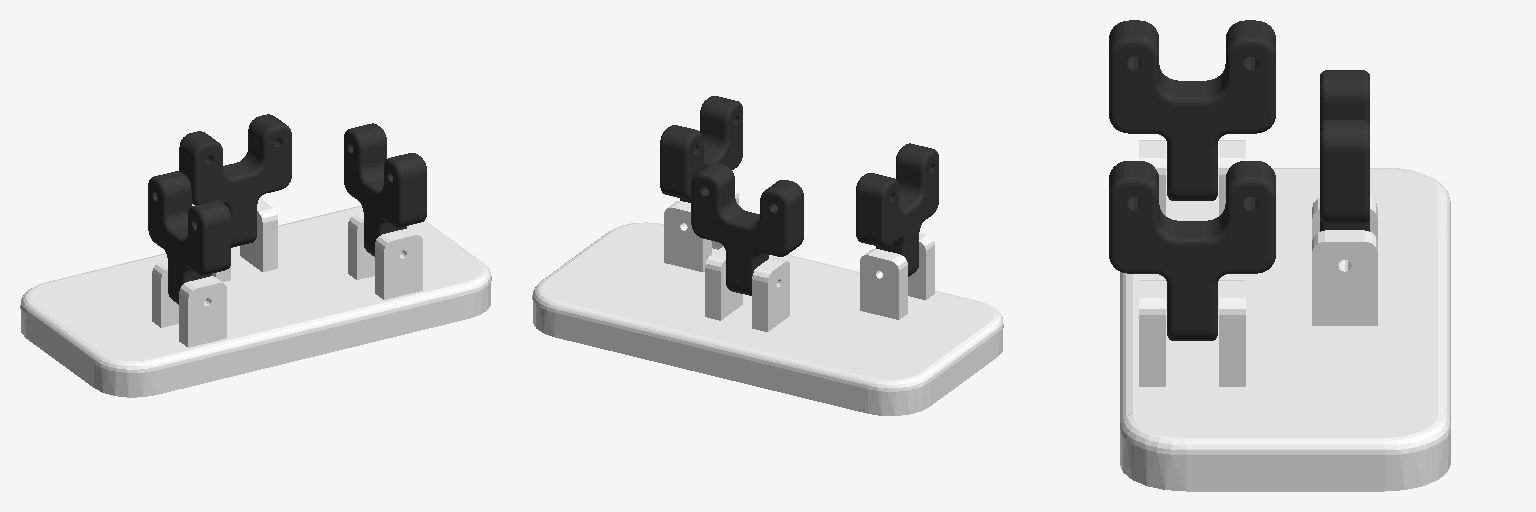
robot.urdf — bluefeet-urdf:
<?xml version="1.0" encoding="utf-8"?>
<!-- This URDF was automatically created by SolidWorks to URDF Exporter! Originally created by [author] ([email redacted]) 
     Commit Version: 1.6.0-1-g15f4949  Build Version: 1.6.7594.29634
     For more information, please see http://wiki.ros.org/sw_urdf_exporter -->
<robot
  name="bluefeet-urdf">
  <mujoco>
        <compiler 
        meshdir="../meshes/" 
        balanceinertia="true" 
        discardvisual="false" />
  </mujoco>
  <link
    name="foot">
    <inertial>
      <origin
        xyz="2.94540571336509E-15 -0.000485428158718312 0.00481121221112329"
        rpy="0 0 0" />
      <mass
        value="0.0431626228283364" />
      <inertia
        ixx="9.2501772724804E-06"
        ixy="-7.13979087059034E-21"
        ixz="-9.94928950890282E-19"
        iyy="3.41465292323659E-05"
        iyz="2.10273541230202E-07"
        izz="4.21467983924722E-05" />
    </inertial>
    <visual>
      <origin
        xyz="0 0 0"
        rpy="0 0 0" />
      <geometry>
        <mesh
          filename="package://bluefeet-urdf/meshes/foot.STL" />
      </geometry>
      <material
        name="">
        <color
          rgba="1 1 1 1" />
      </material>
    </visual>
    <collision>
      <origin
        xyz="0 0 0"
        rpy="0 0 0" />
      <geometry>
        <mesh
          filename="package://bluefeet-urdf/meshes/foot.STL" />
      </geometry>
    </collision>
  </link>
  <link
    name="fl1">
    <inertial>
      <origin
        xyz="0.011917746161099 1.04083408558608E-17 -3.46944695195361E-18"
        rpy="0 0 0" />
      <mass
        value="0.00283590714079141" />
      <inertia
        ixx="1.58449114328455E-07"
        ixy="-5.50699764411937E-24"
        ixz="-3.330273686942E-23"
        iyy="2.69919583243165E-07"
        iyz="5.6221076426108E-24"
        izz="1.38027104044294E-07" />
    </inertial>
    <visual>
      <origin
        xyz="0 0 0"
        rpy="0 0 0" />
      <geometry>
        <mesh
          filename="package://bluefeet-urdf/meshes/fl1.STL" />
      </geometry>
      <material
        name="">
        <color
          rgba="0.250980392156863 0.250980392156863 0.250980392156863 1" />
      </material>
    </visual>
    <collision>
      <origin
        xyz="0 0 0"
        rpy="0 0 0" />
      <geometry>
        <mesh
          filename="package://bluefeet-urdf/meshes/fl1.STL" />
      </geometry>
    </collision>
  </link>
  <joint
    name="fj1"
    type="revolute">
    <origin
      xyz="0.025 -0.014 0.018"
      rpy="1.5708 -1.5708 0" />
    <parent
      link="foot" />
    <child
      link="fl1" />
    <axis
      xyz="0 0 -1" />
    <limit
      lower="0"
      upper="0"
      effort="0"
      velocity="0" />
  </joint>
  <link
    name="fl2">
    <inertial>
      <origin
        xyz="0.011917746161099 1.38777878078145E-17 9.10725272540198E-18"
        rpy="0 0 0" />
      <mass
        value="0.00283590714079142" />
      <inertia
        ixx="1.58449114328455E-07"
        ixy="1.76340876041553E-25"
        ixz="1.50618263651043E-23"
        iyy="2.69919583243166E-07"
        iyz="-1.73283008985669E-23"
        izz="1.38027104044294E-07" />
    </inertial>
    <visual>
      <origin
        xyz="0 0 0"
        rpy="0 0 0" />
      <geometry>
        <mesh
          filename="package://bluefeet-urdf/meshes/fl2.STL" />
      </geometry>
      <material
        name="">
        <color
          rgba="0.250980392156863 0.250980392156863 0.250980392156863 1" />
      </material>
    </visual>
    <collision>
      <origin
        xyz="0 0 0"
        rpy="0 0 0" />
      <geometry>
        <mesh
          filename="package://bluefeet-urdf/meshes/fl2.STL" />
      </geometry>
    </collision>
  </link>
  <joint
    name="fj2"
    type="revolute">
    <origin
      xyz="0 0.009 0.018"
      rpy="0 -1.5708 0" />
    <parent
      link="foot" />
    <child
      link="fl2" />
    <axis
      xyz="0 0 1" />
    <limit
      lower="0"
      upper="0"
      effort="0"
      velocity="0" />
  </joint>
  <link
    name="fl3">
    <inertial>
      <origin
        xyz="0.011917746161099 0 0"
        rpy="0 0 0" />
      <mass
        value="0.00283590714079141" />
      <inertia
        ixx="1.58449114328455E-07"
        ixy="4.98328391842494E-24"
        ixz="-1.71479158624406E-23"
        iyy="2.69919583243165E-07"
        iyz="1.15355055036625E-23"
        izz="1.38027104044294E-07" />
    </inertial>
    <visual>
      <origin
        xyz="0 0 0"
        rpy="0 0 0" />
      <geometry>
        <mesh
          filename="package://bluefeet-urdf/meshes/fl3.STL" />
      </geometry>
      <material
        name="">
        <color
          rgba="0.250980392156863 0.250980392156863 0.250980392156863 1" />
      </material>
    </visual>
    <collision>
      <origin
        xyz="0 0 0"
        rpy="0 0 0" />
      <geometry>
        <mesh
          filename="package://bluefeet-urdf/meshes/fl3.STL" />
      </geometry>
    </collision>
  </link>
  <joint
    name="fj3"
    type="revolute">
    <origin
      xyz="-0.025 -0.014 0.018"
      rpy="1.5708 -1.5708 0" />
    <parent
      link="foot" />
    <child
      link="fl3" />
    <axis
      xyz="0 0 1" />
    <limit
      lower="0"
      upper="0"
      effort="0"
      velocity="0" />
  </joint>
</robot>

--- Facts derived from the render (not from the file) ---
Views: 3 orthographic renders of the robot side by side, from view 1: azimuth 30°, elevation 25°; view 2: azimuth 150°, elevation 25°; view 3: azimuth 270°, elevation 25°.
Robot: bluefeet-urdf — 4 links, 3 joints (3 revolute); root link foot; default pose: all joints at 0.
Visible links, largest first — view 1: foot, fl2, fl3, fl1; view 2: foot, fl2, fl3, fl1; view 3: foot, fl3, fl1, fl2.
Link boxes in pixels (bbox=[...]): foot: bbox=[20, 198, 491, 397]; fl2: bbox=[179, 114, 291, 247]; fl3: bbox=[148, 171, 230, 304]; fl1: bbox=[344, 123, 426, 256]; foot: bbox=[532, 189, 1003, 415]; fl2: bbox=[691, 163, 803, 295]; fl3: bbox=[856, 143, 938, 276]; fl1: bbox=[660, 96, 742, 202]; foot: bbox=[1120, 140, 1450, 491]; fl3: bbox=[1109, 20, 1275, 200]; fl1: bbox=[1109, 161, 1275, 340]; fl2: bbox=[1320, 70, 1369, 231].
Size in the robot's own frame: 0.1 by 0.0516 by 0.042 metres.
Meshes: 4 distinct files referenced, 4 mesh visuals loaded (4 binary STL).